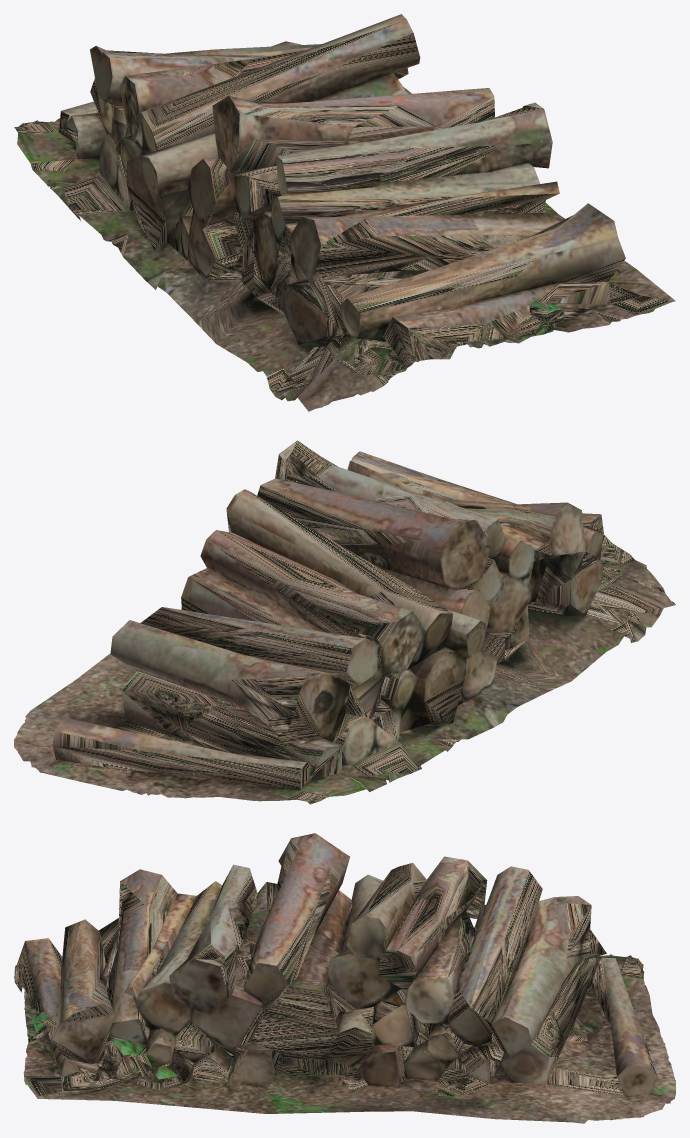
Rendered from log-stack.lod0.glb.
The picture shows the model from 3 angles, top to bottom: view 1: azimuth 30°, elevation 25°; view 2: azimuth 150°, elevation 25°; view 3: azimuth 270°, elevation 25°; orthographic projection. The views are drawn at different scales.
Visible parts, largest first — view 1: troncos_troncos_0; view 2: troncos_troncos_0; view 3: troncos_troncos_0.
Boxes of the visible parts, x1=… form: troncos_troncos_0: x1=14, y1=14, x2=675, y2=411; troncos_troncos_0: x1=14, y1=440, x2=675, y2=804; troncos_troncos_0: x1=14, y1=833, x2=675, y2=1123.
Size of the model in its own units: 4.83 by 2.39 by 7.99.
1 material, 1 textured.
